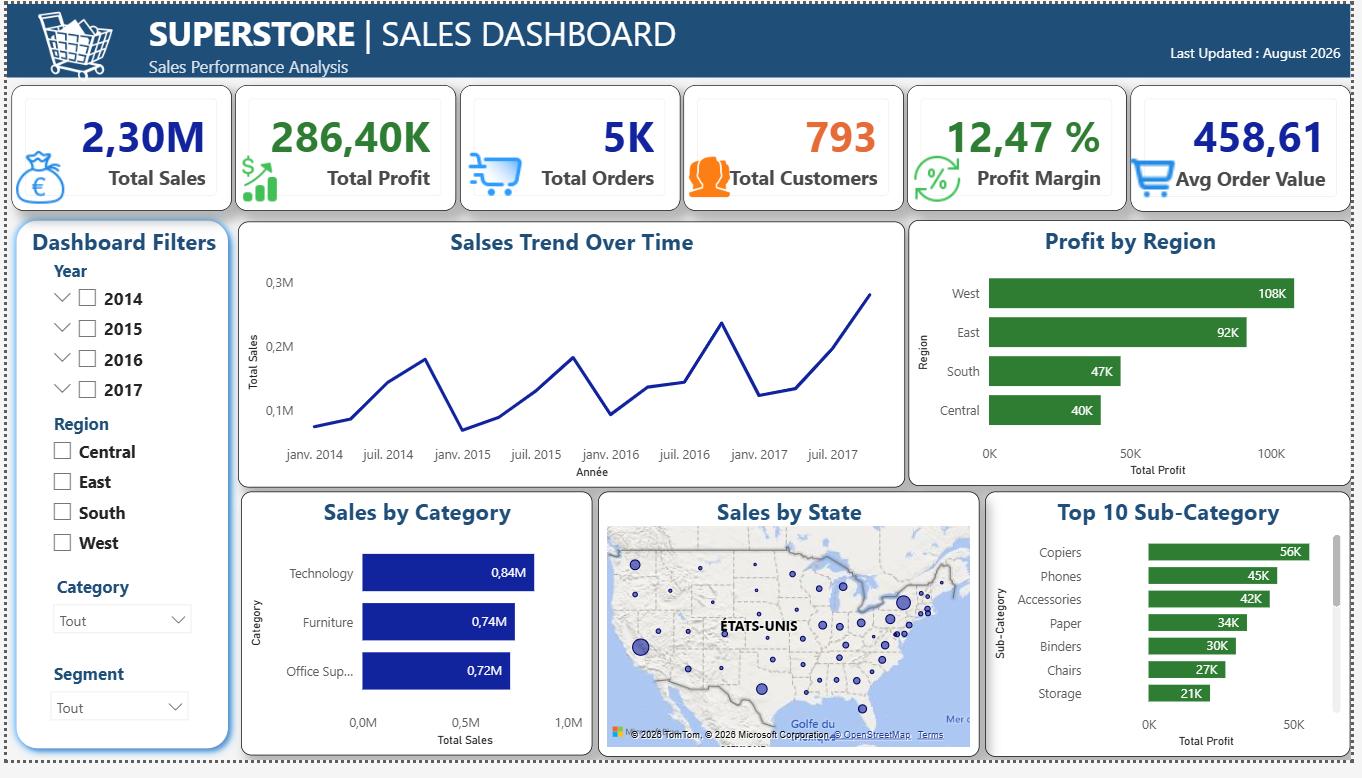

The dashboard page shown, as its layout file describes it:
{"tool":"powerbi","page":{"name":"Sales Dashboard","canvas":[1280,720],"ordinal":0},"visuals":[{"type":"shape","box":[0,196.8,219.6,520.9],"z":0},{"type":"shape","box":[0,0,1279.5,70],"z":1000},{"type":"cardVisual","fields":{"Data":["Sample - Superstore.Total Sales"]},"box":[4.5,76.9,210,120],"z":2000},{"type":"textbox","box":[130,0,535,91.7],"z":3000},{"type":"textbox","box":[1102.3,31.8,174.1,37.9],"z":4000},{"type":"cardVisual","fields":{"Data":["Sample - Superstore.Total Profit"]},"box":[217.6,76.9,210.9,120],"z":5000},{"type":"cardVisual","fields":{"Data":["Sample - Superstore.Total Orders"]},"box":[431.5,76.9,210,120],"z":6000},{"type":"cardVisual","fields":{"Data":["Sample - Superstore.Total Customers"]},"box":[644.6,76.9,210,120],"z":7000},{"type":"cardVisual","fields":{"Data":["Sample - Superstore.Profit Margin"]},"box":[857.6,76.9,209.1,120],"z":8000},{"type":"cardVisual","fields":{"Data":["Sample - Superstore.Average Order Value"]},"box":[1069.7,76.9,210,120.5],"z":9000},{"type":"slicer","fields":{"Values":["Sample - Superstore.Order Date.Variation.Hiérarchie de dates.Année","Sample - Superstore.Order Date.Variation.Hiérarchie de dates.Trimestre","Sample - Superstore.Order Date.Variation.Hiérarchie de dates.Mois","Sample - Superstore.Order Date.Variation.Hiérarchie de dates.Jour"]},"box":[31.8,237.7,151.4,149.9],"z":10000},{"type":"lineChart","title":"Salses Trend Over Time","fields":{"Y":["Sample - Superstore.Total Sales"],"Category":["Sample - Superstore.Order Date.Variation.Hiérarchie de dates.Année","Sample - Superstore.Order Date.Variation.Hiérarchie de dates.Trimestre","Sample - Superstore.Order Date.Variation.Hiérarchie de dates.Mois","Sample - Superstore.Order Date.Variation.Hiérarchie de dates.Jour"]},"box":[220,206.7,635,253.3],"z":11000},{"type":"textbox","box":[9.1,205.9,205.9,43.9],"z":12000},{"type":"slicer","fields":{"Values":["Sample - Superstore.Region"]},"box":[31.8,383.1,151.4,149.9],"z":13000},{"type":"slicer","fields":{"Values":["Sample - Superstore.Category"]},"box":[34.8,539.1,151.4,72.7],"z":14000},{"type":"slicer","fields":{"Values":["Sample - Superstore.Segment"]},"box":[31.8,620.8,151.4,72.7],"z":15000},{"type":"clusteredBarChart","title":"Profit by Region","fields":{"Category":["Sample - Superstore.Region"],"Y":["Sample - Superstore.Total Profit"]},"box":[858.3,205,421.7,253.3],"z":16000},{"type":"clusteredBarChart","title":"Sales by Category","fields":{"Category":["Sample - Superstore.Category"],"Y":["Sample - Superstore.Total Sales"]},"box":[222.6,464.9,334.6,251.4],"z":17000},{"type":"clusteredBarChart","title":"Top 10 Sub-Category","fields":{"Category":["Sample - Superstore.Sub-Category"],"Y":["Sample - Superstore.Total Profit"]},"box":[931.2,464.9,348.3,252.9],"z":18000},{"type":"image","box":[0,0,130.2,77.2],"z":19000},{"type":"image","box":[4.5,136.3,54.5,59.1],"z":20000},{"type":"image","box":[216.5,143.8,46.9,46.9],"z":21000},{"type":"image","box":[439.1,133.3,54.5,59.1],"z":22000},{"type":"image","box":[645.1,136.3,46.9,59.1],"z":23000},{"type":"image","box":[858.6,137.8,54.5,59.1],"z":24000},{"type":"image","box":[1070.5,137.8,43.9,53],"z":25000},{"type":"map","title":"Sales by State","fields":{"Category":["Sample - Superstore.State"],"Size":["Sum(Sample - Superstore.Sales)"]},"box":[562.5,464.9,363.4,252.9],"z":26000}]}

Visuals, with their boxes in screenshot pixels (x1, y1, x2, y2), scaled from the page's 1280x720 canvas onto the 1362x778 screenshot:
shape: left=0, top=213, right=234, bottom=776
shape: left=0, top=0, right=1361, bottom=76
cardVisual - Sample - Superstore.Total Sales: left=5, top=83, right=228, bottom=213
textbox: left=138, top=0, right=708, bottom=99
textbox: left=1173, top=34, right=1358, bottom=75
cardVisual - Sample - Superstore.Total Profit: left=232, top=83, right=456, bottom=213
cardVisual - Sample - Superstore.Total Orders: left=459, top=83, right=683, bottom=213
cardVisual - Sample - Superstore.Total Customers: left=686, top=83, right=909, bottom=213
cardVisual - Sample - Superstore.Profit Margin: left=913, top=83, right=1135, bottom=213
cardVisual - Sample - Superstore.Average Order Value: left=1138, top=83, right=1361, bottom=213
slicer - Sample - Superstore.Order Date.Variation.Hiérarchie de dates.Année x Sample - Superstore.Order Date.Variation.Hiérarchie de dates.Trimestre: left=34, top=257, right=195, bottom=419
"Salses Trend Over Time" lineChart: left=234, top=223, right=910, bottom=497
textbox: left=10, top=222, right=229, bottom=270
slicer - Sample - Superstore.Region: left=34, top=414, right=195, bottom=576
slicer - Sample - Superstore.Category: left=37, top=583, right=198, bottom=661
slicer - Sample - Superstore.Segment: left=34, top=671, right=195, bottom=749
"Profit by Region" clusteredBarChart: left=913, top=222, right=1361, bottom=495
"Sales by Category" clusteredBarChart: left=237, top=502, right=593, bottom=774
"Top 10 Sub-Category" clusteredBarChart: left=991, top=502, right=1361, bottom=776
image: left=0, top=0, right=139, bottom=83
image: left=5, top=147, right=63, bottom=211
image: left=230, top=155, right=280, bottom=206
image: left=467, top=144, right=525, bottom=208
image: left=686, top=147, right=736, bottom=211
image: left=914, top=149, right=972, bottom=213
image: left=1139, top=149, right=1186, bottom=206
"Sales by State" map: left=599, top=502, right=985, bottom=776
